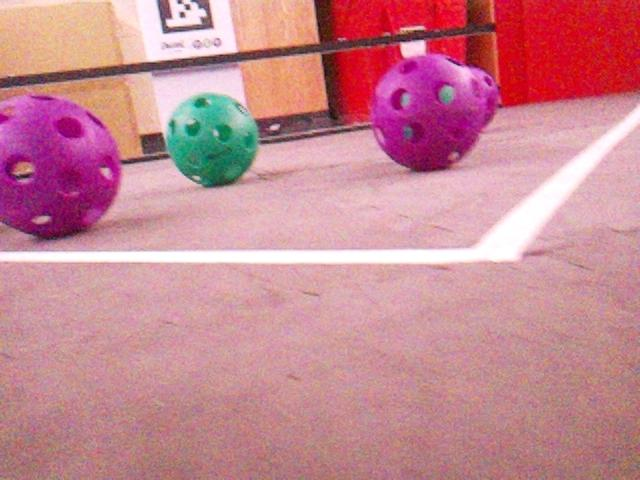Green: (164, 92, 260, 186)
Purple: (0, 94, 123, 237), (369, 52, 487, 169), (463, 68, 500, 123)
